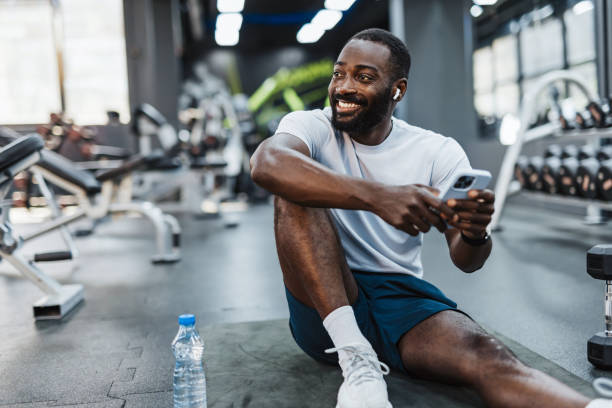Male: (248, 24, 503, 404)
